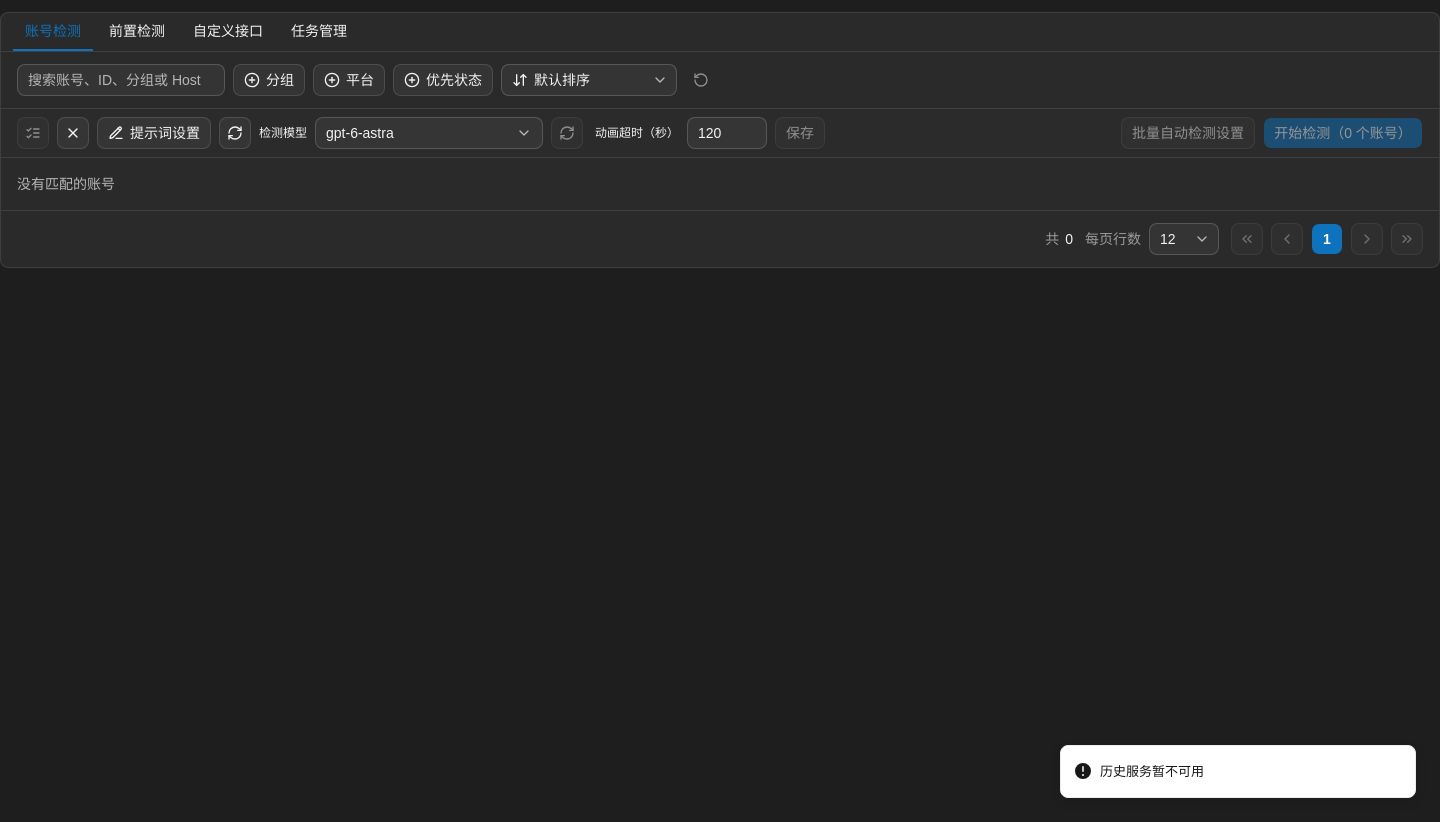
自定义历史读取失败时提供重试入口，恢复后展示空列表
What coordinates should you click on to do the following:
click the tab "自定义接口"
I would click on:
 (228, 32)
Its box is 181,13 -> 275,51.
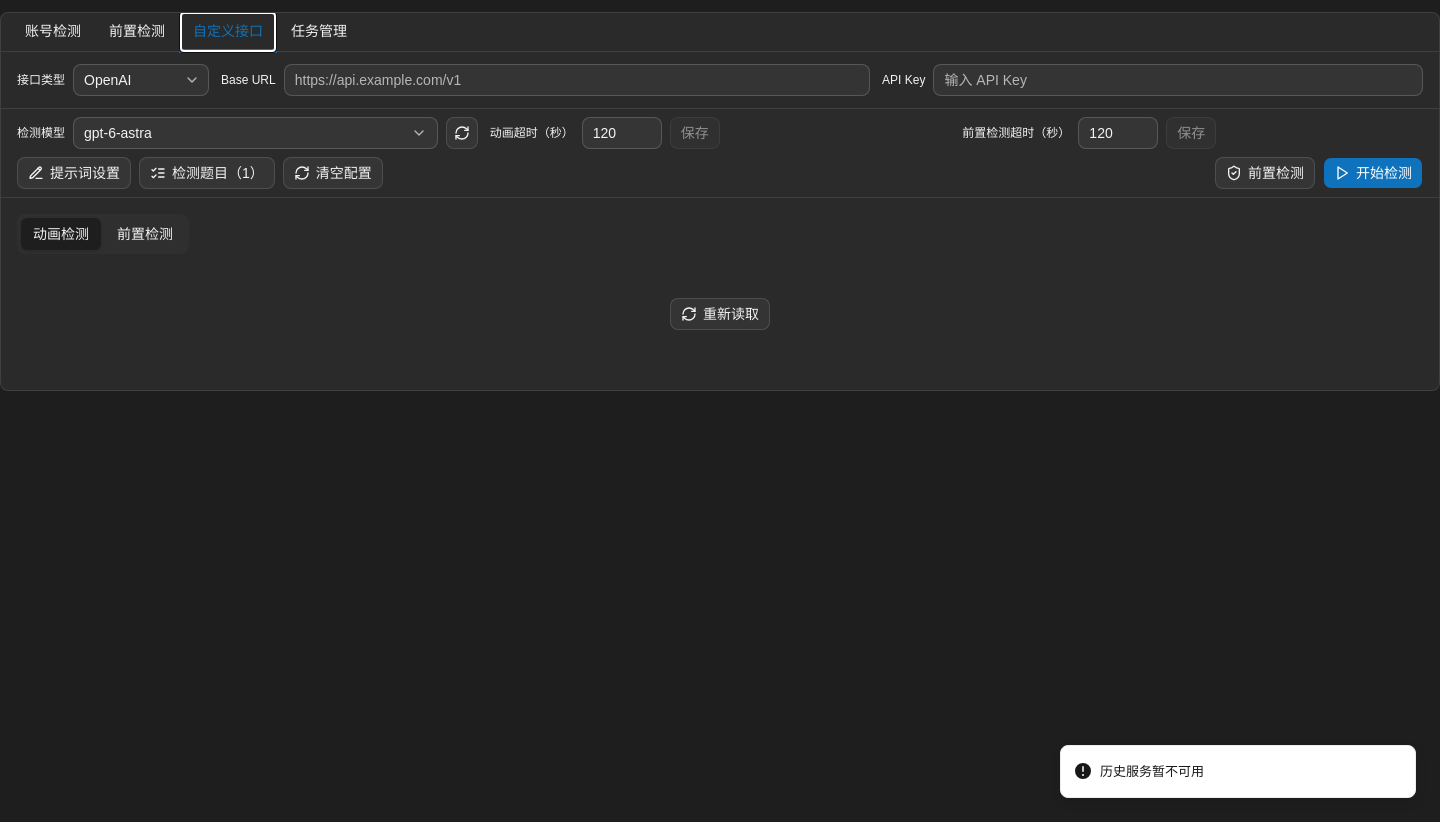
expect the text "暂无自定义接口检测记录" is not shown: met
What coordinates should you click on to do the following:
click the button "重新读取"
I would click on:
 (720, 314)
Its box is 670,298 -> 770,330.
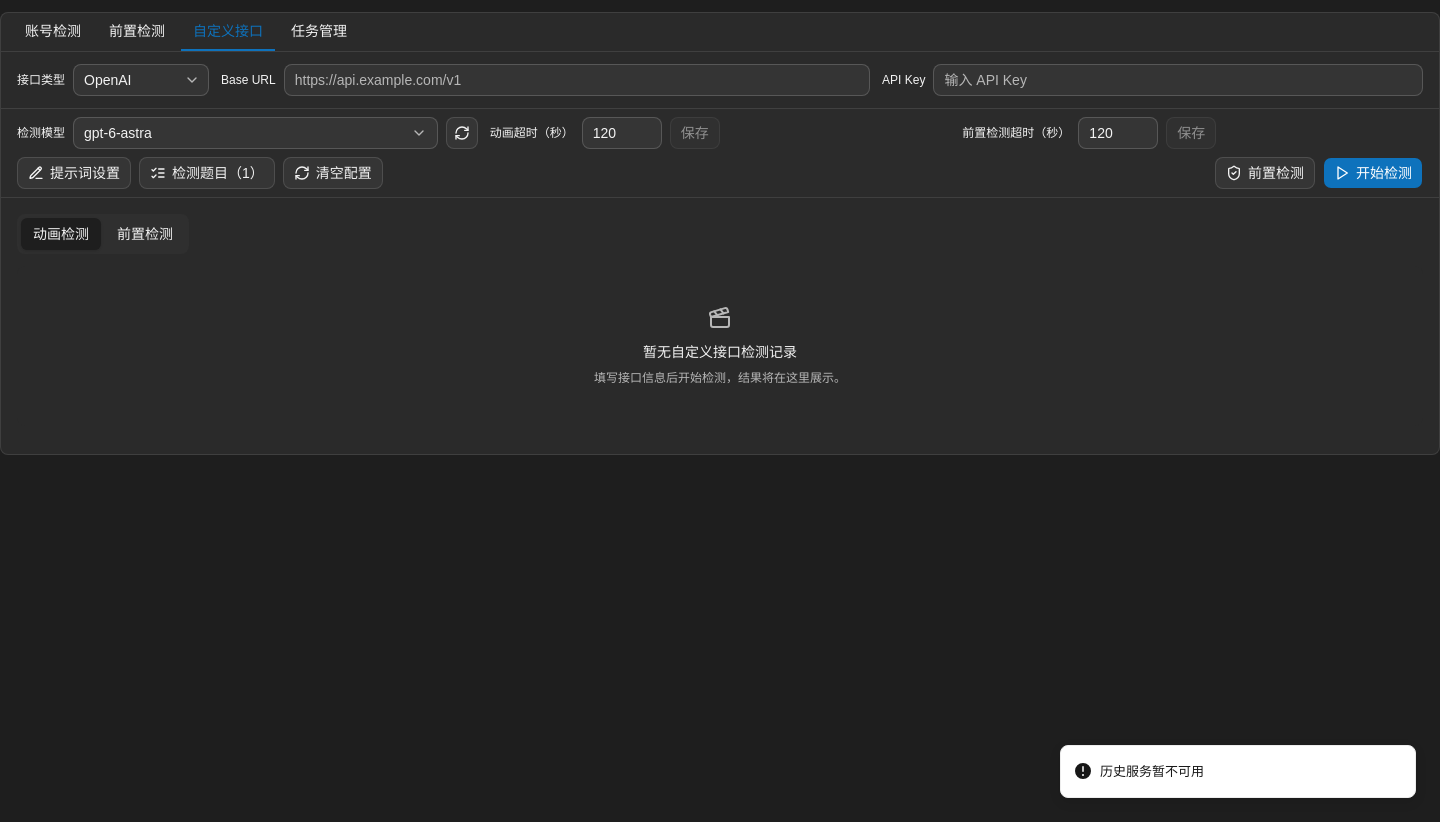
expect the text "暂无自定义接口检测记录" is shown: met, box 643,342 -> 797,362
expect the button "重新读取" is gone: met
